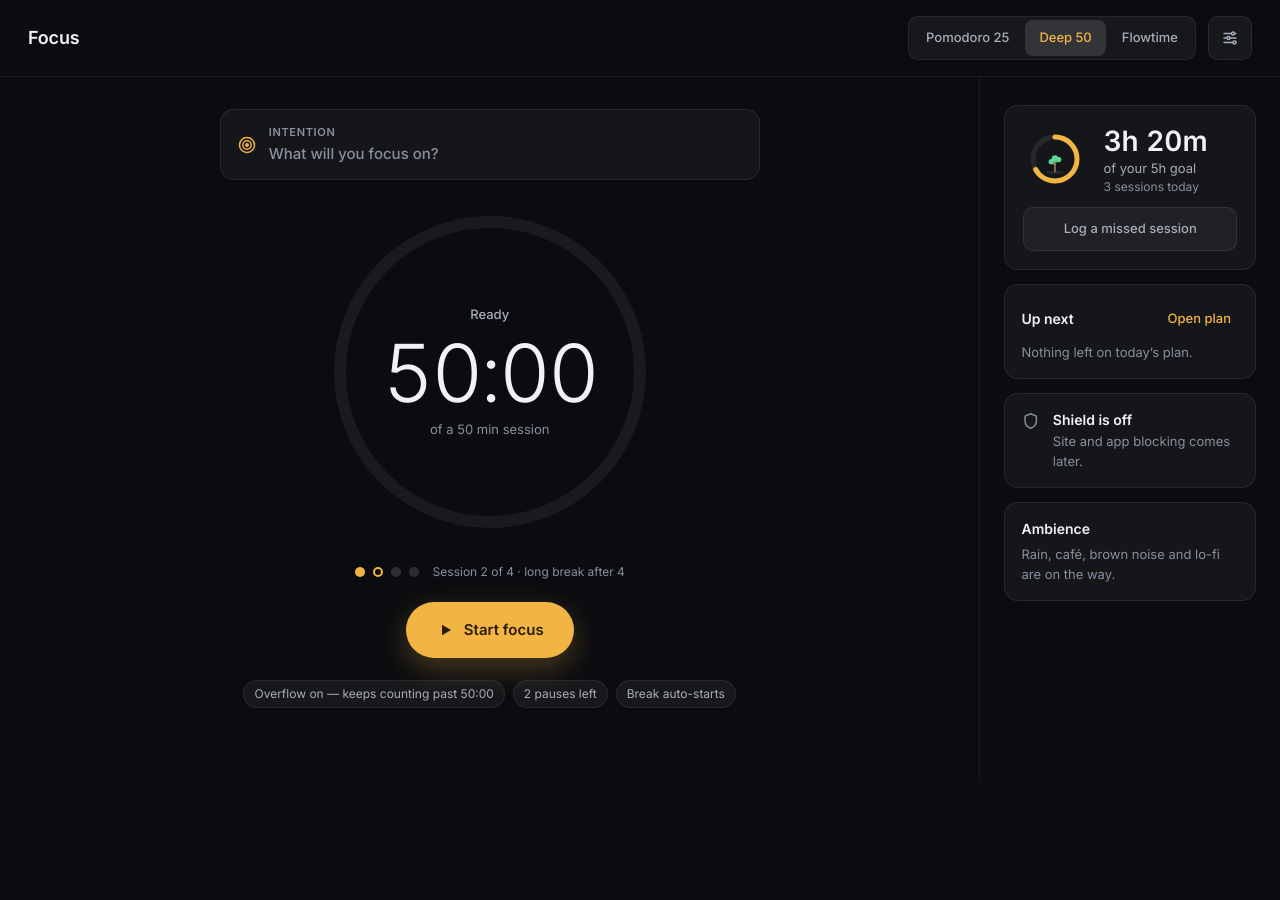
Test: FocusScreen › saves a changed setting
Click the button named "Timer settings" at [1230, 38], box [1208,16,1252,60]
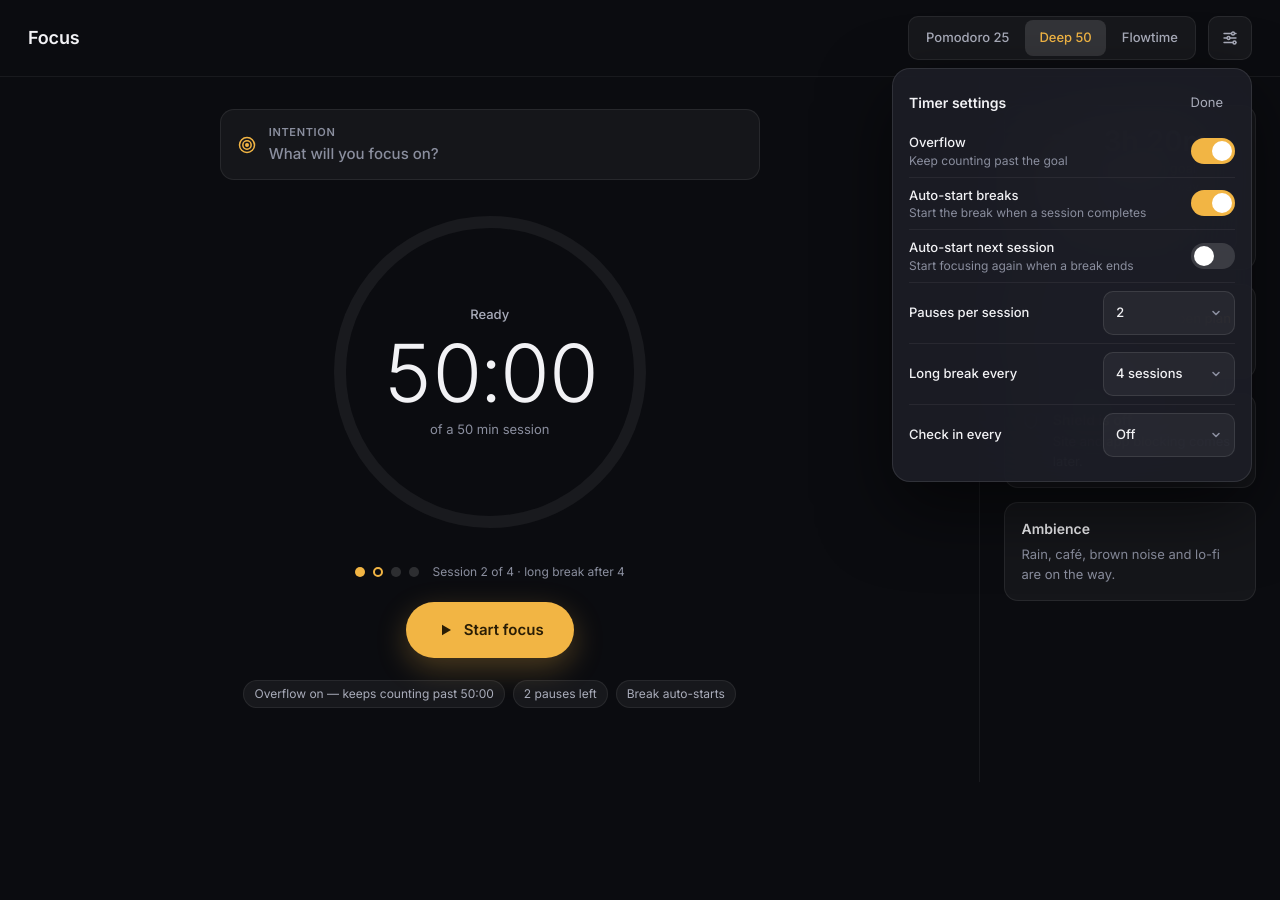
Click the switch labelled "Overflow Keep counting past the goal" at [937, 142], box [909,125,1235,178]
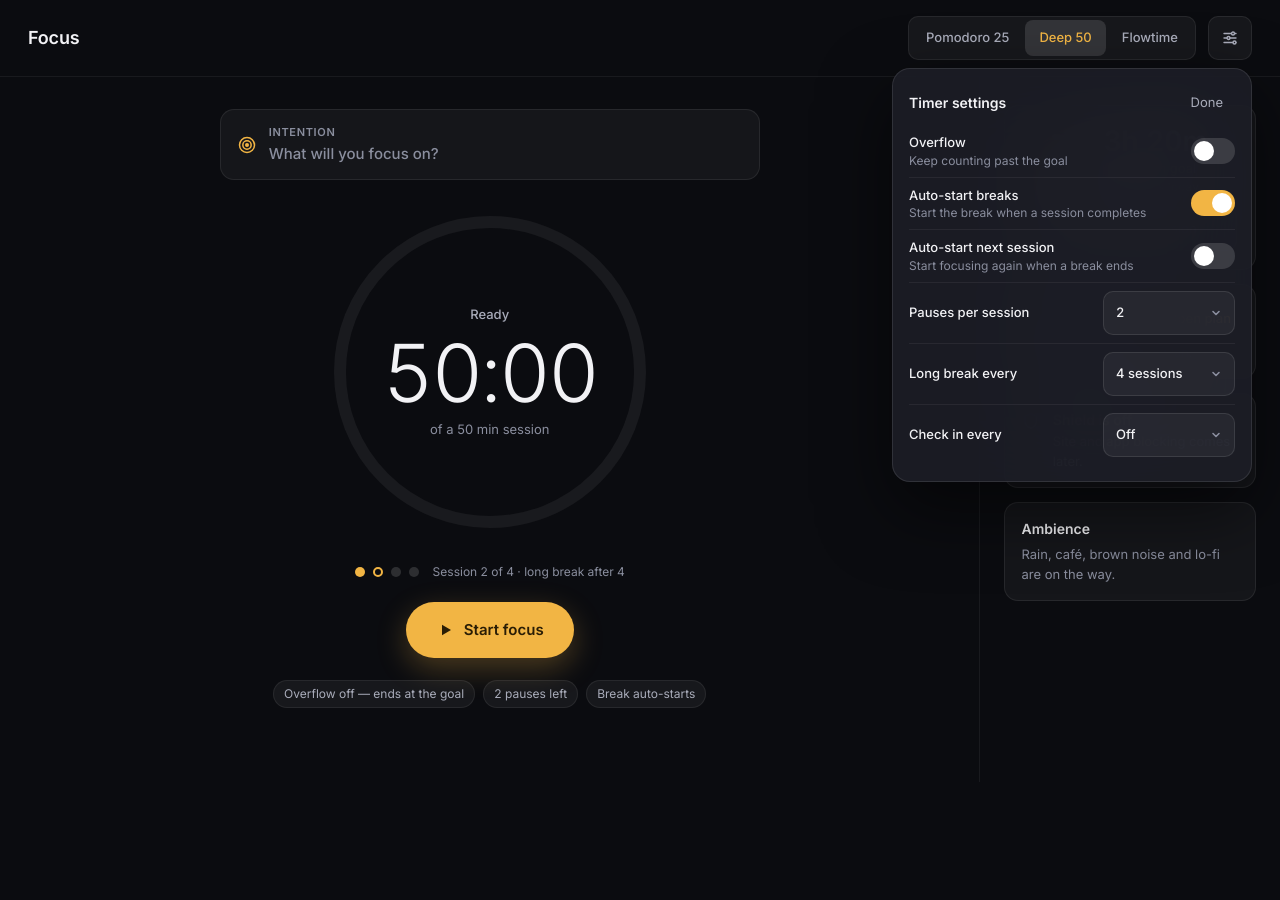
Expected: the list item "Overflow off — ends at the goal" is shown, [273,680,475,708]
